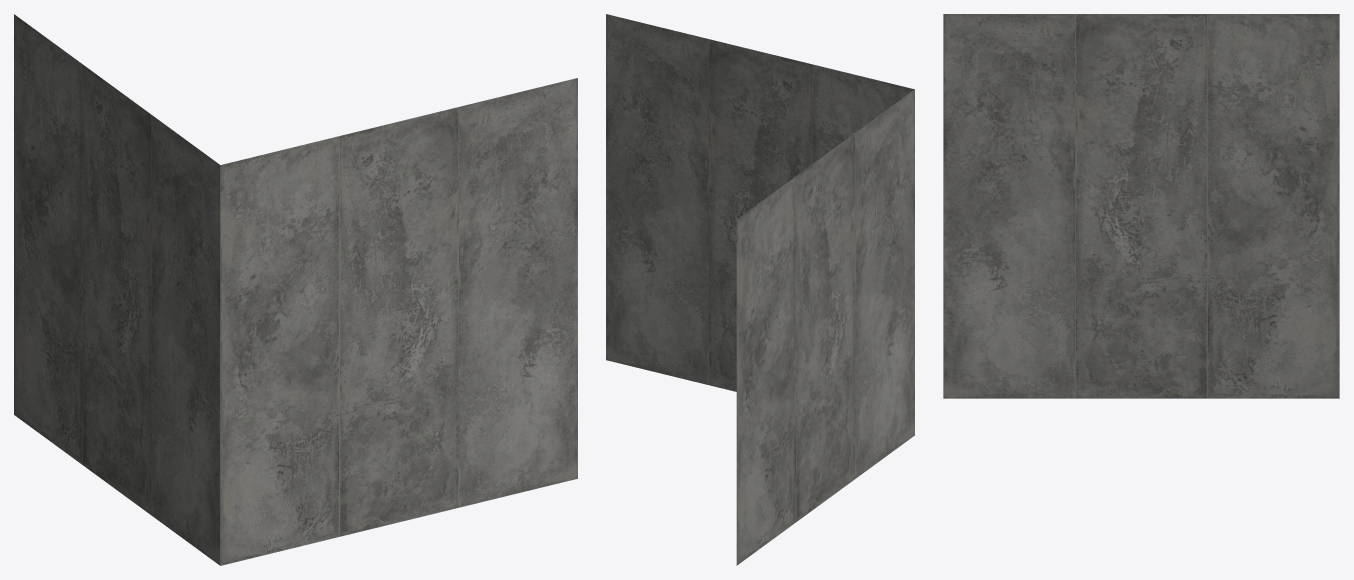
Rendered from wall_corner_exterior_back.fbx.
3 renders of one model, left to right at view 1: azimuth 30°, elevation 25°; view 2: azimuth 150°, elevation 25°; view 3: azimuth 270°, elevation 25°, orthographic. The views are drawn at different scales.
Parts seen in each view (by area): view 1: Wall_CornerExterior_Back; view 2: Wall_CornerExterior_Back; view 3: Wall_CornerExterior_Back.
Boxes of the visible parts, x1,y1,x2,y2 form: Wall_CornerExterior_Back: [14, 14, 577, 565]; Wall_CornerExterior_Back: [606, 14, 914, 565]; Wall_CornerExterior_Back: [943, 14, 1339, 398].
Size of the model in its own units: 110 by 118 by 110.
Materials: 1 (1 with a texture image).
